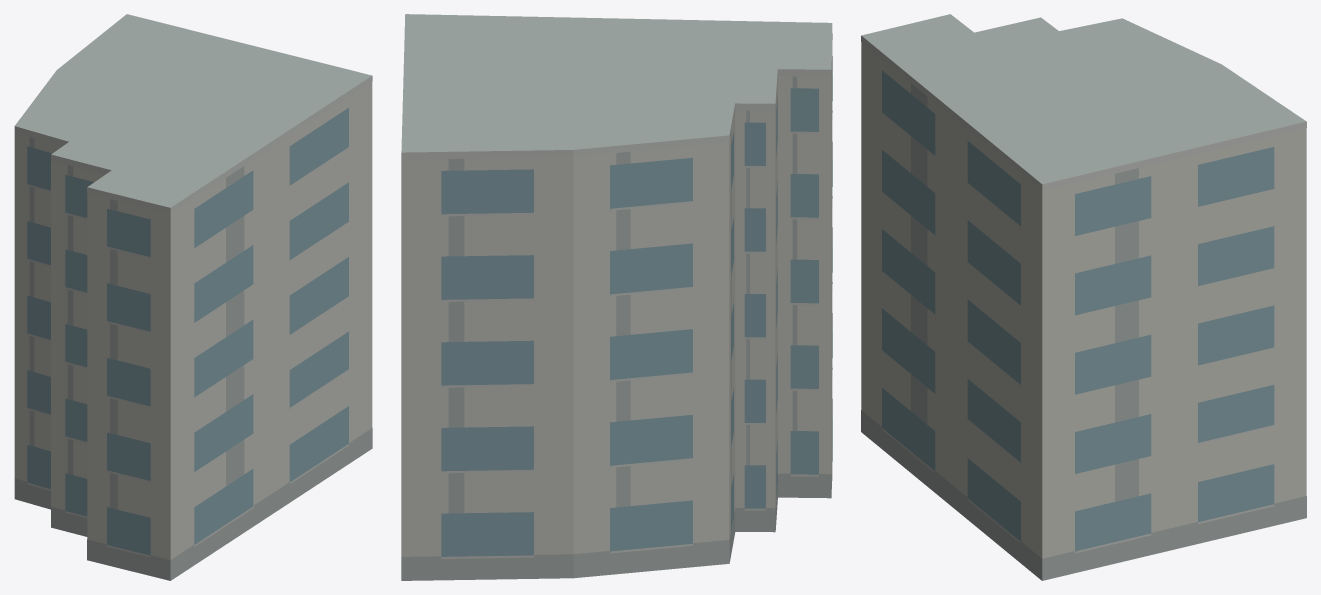
File: survey-upis-32803312.glb
3 views of the same model, side by side, from view 1: azimuth 30°, elevation 25°; view 2: azimuth 150°, elevation 25°; view 3: azimuth 270°, elevation 25° (orthographic). The views are drawn at different scales.
Parts seen in each view (by area): view 1: survey-upis-32803312.tmp; view 2: survey-upis-32803312.tmp; view 3: survey-upis-32803312.tmp.
Boxes of the visible parts, x1,y1,x2,y2 form: survey-upis-32803312.tmp: [14, 14, 372, 580]; survey-upis-32803312.tmp: [401, 14, 832, 580]; survey-upis-32803312.tmp: [861, 14, 1306, 580].
Bounding box in the file's own units: 13.41 × 14.55 × 14.82.
